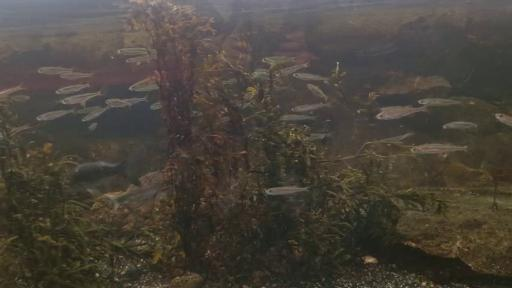Fish: (71, 148, 145, 186), (105, 180, 165, 210), (376, 106, 428, 119), (62, 91, 102, 107), (356, 42, 397, 57), (411, 144, 467, 153), (36, 109, 74, 121), (82, 107, 109, 121), (280, 63, 309, 76), (129, 78, 158, 91), (292, 103, 331, 112), (0, 85, 25, 99), (265, 187, 308, 195), (307, 84, 327, 101), (56, 84, 89, 94), (37, 66, 73, 75), (379, 133, 414, 142), (418, 99, 461, 106), (126, 54, 156, 64), (293, 73, 328, 81), (262, 56, 293, 65), (118, 48, 156, 55), (443, 122, 477, 129), (60, 72, 93, 79), (124, 95, 147, 105), (280, 115, 315, 121), (495, 114, 511, 126), (252, 69, 269, 80), (106, 99, 129, 107), (11, 125, 31, 134), (135, 84, 159, 91), (75, 107, 102, 113), (308, 134, 330, 141), (10, 95, 30, 102), (43, 143, 53, 154), (222, 78, 237, 85), (150, 102, 162, 110), (88, 123, 97, 131)
